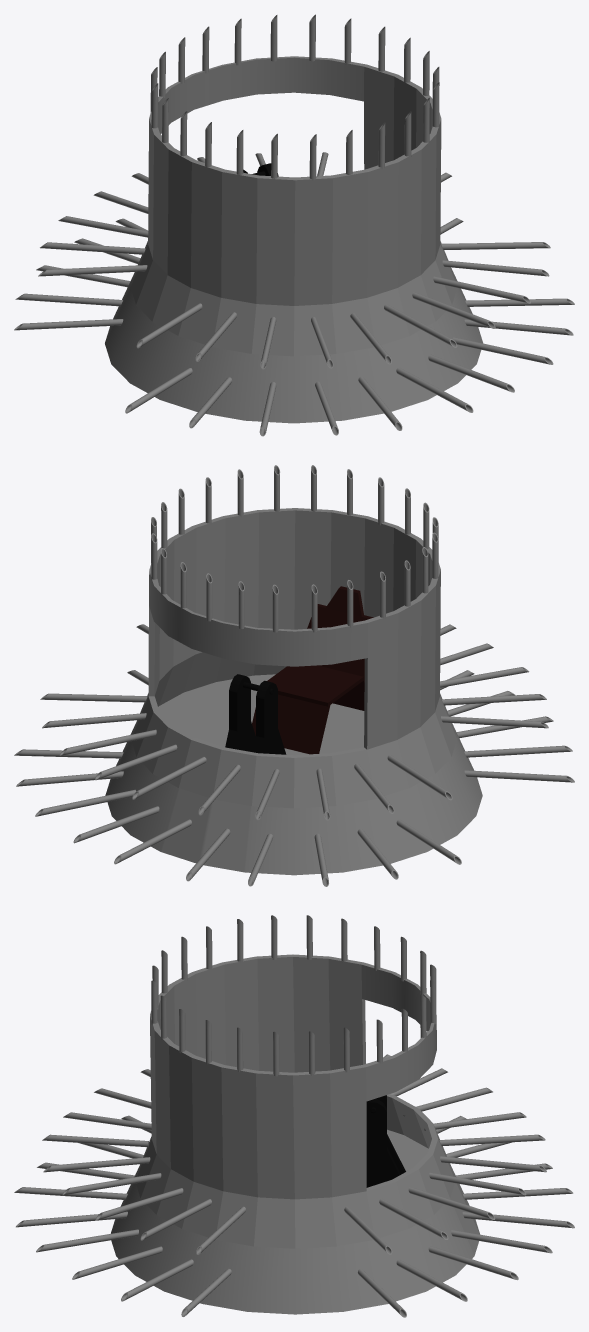
File: Tower_3 lvl 2 cover.FBX
The picture shows the model from 3 angles, top to bottom: view 1: azimuth 30°, elevation 25°; view 2: azimuth 150°, elevation 25°; view 3: azimuth 270°, elevation 25°; orthographic projection. The views are drawn at different scales.
Visible parts, largest first — view 1: Box008; view 2: Box008; view 3: Box008.
Boxes of the visible parts, <box> form: Box008: <box>14,14,574,436</box>; Box008: <box>14,465,574,886</box>; Box008: <box>14,915,574,1317</box>.
Bounding box in the file's own units: 256 × 282 × 147.
